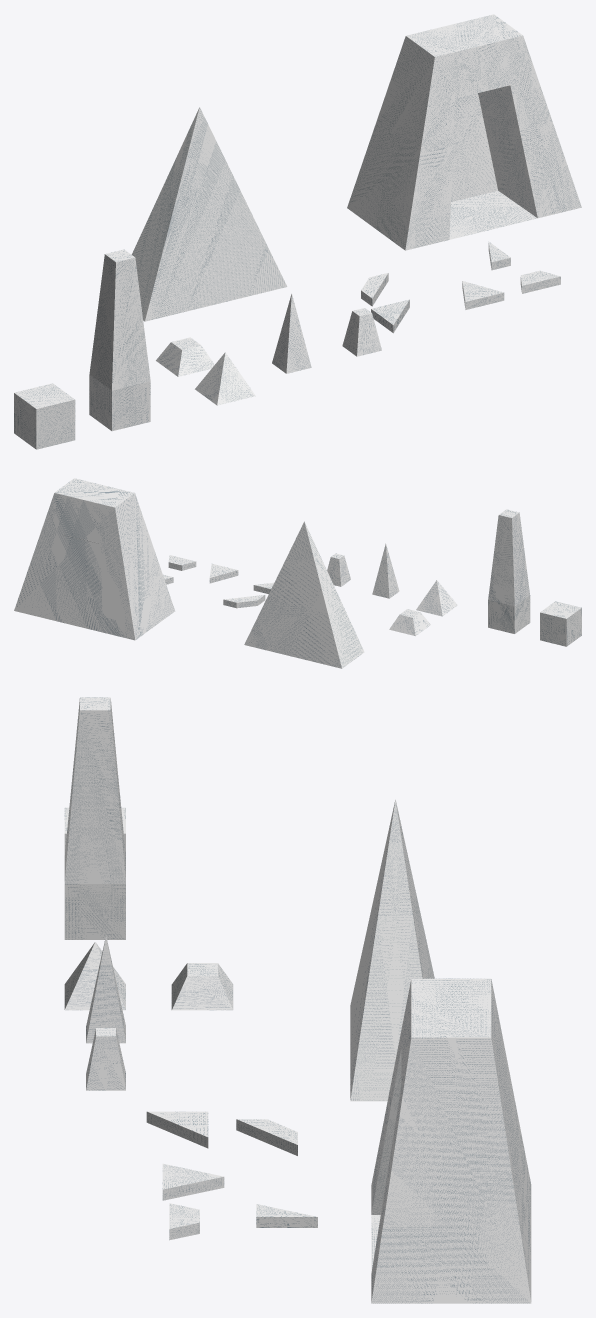
The model's file is Triangle Shapes.dae.
3 views of the same model, one above another, from view 1: azimuth 30°, elevation 25°; view 2: azimuth 150°, elevation 25°; view 3: azimuth 270°, elevation 25° (orthographic). The views are drawn at different scales.
Visible parts, largest first — view 1: group_6, group_5, group_0, SketchUp, group_1, group_2, group_4, group_3, group_7, group_8, group_10, group_9; view 2: group_6, group_5, group_0, SketchUp, group_1, group_2, group_4, group_3, group_9, group_7, group_10; view 3: group_6, group_5, group_0, group_4, group_2, group_3, group_1, group_8, group_7, group_9, group_11, group_10.
Part boxes in pixels (<box>): group_6: <box>347,14,581,250</box>; group_5: <box>131,107,287,321</box>; group_0: <box>89,249,150,431</box>; SketchUp: <box>14,383,75,449</box>; group_1: <box>195,352,255,405</box>; group_2: <box>272,293,311,373</box>; group_4: <box>156,337,214,376</box>; group_3: <box>342,308,381,356</box>; group_7: <box>462,281,504,309</box>; group_8: <box>371,299,409,333</box>; group_10: <box>520,270,560,293</box>; group_9: <box>361,273,388,306</box>; group_6: <box>14,478,174,640</box>; group_5: <box>244,521,364,668</box>; group_0: <box>488,509,530,633</box>; SketchUp: <box>540,601,581,646</box>; group_1: <box>416,580,457,616</box>; group_2: <box>372,543,399,598</box>; group_4: <box>389,609,430,635</box>; group_3: <box>327,553,350,586</box>; group_9: <box>223,594,265,608</box>; group_7: <box>209,563,238,583</box>; group_10: <box>168,555,196,570</box>; group_6: <box>371,978,531,1303</box>; group_5: <box>350,799,434,1101</box>; group_0: <box>64,697,125,939</box>; group_4: <box>171,963,233,1010</box>; group_2: <box>86,935,125,1043</box>; group_3: <box>86,1028,125,1090</box>; group_1: <box>64,942,125,1010</box>; group_8: <box>146,1111,208,1148</box>; group_7: <box>162,1163,224,1200</box>; group_9: <box>236,1119,297,1155</box>; group_11: <box>256,1204,317,1227</box>; group_10: <box>169,1203,199,1240</box>.
Bounding box in the file's own units: 16.93 × 7.58 × 4.82.
